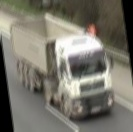truck: (9, 8, 116, 127)
